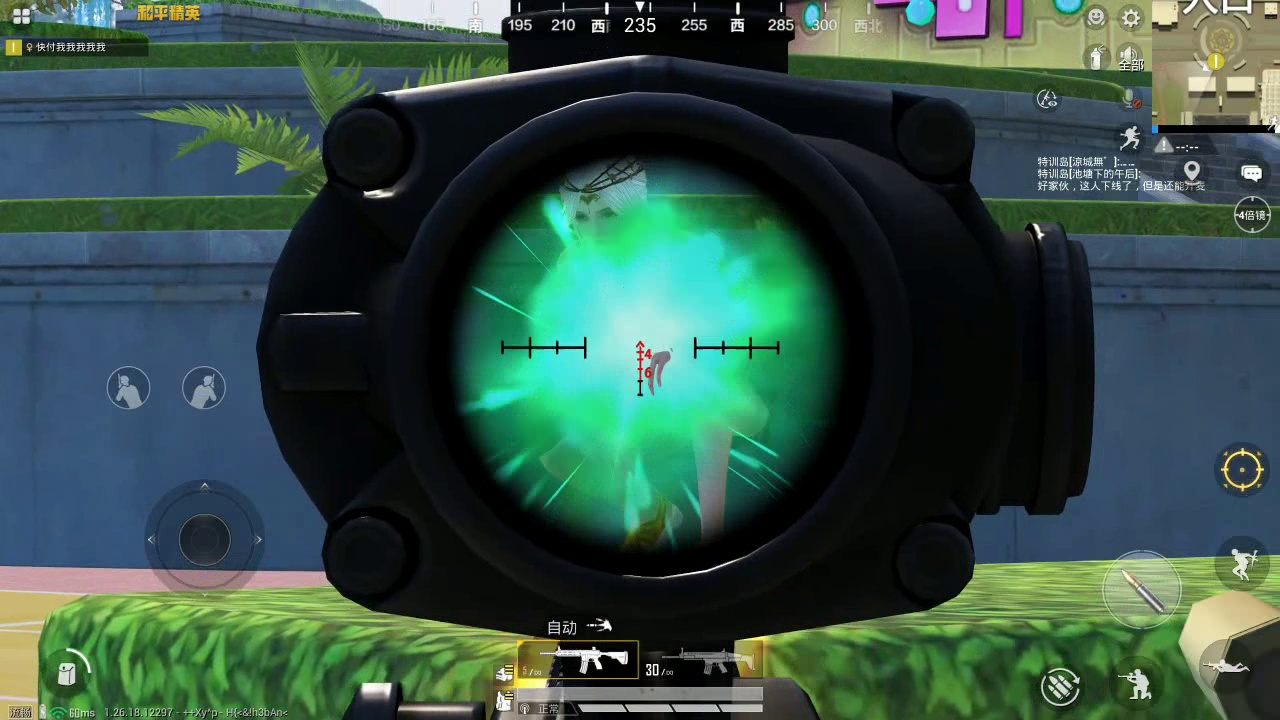enemy: (545, 158, 730, 555)
